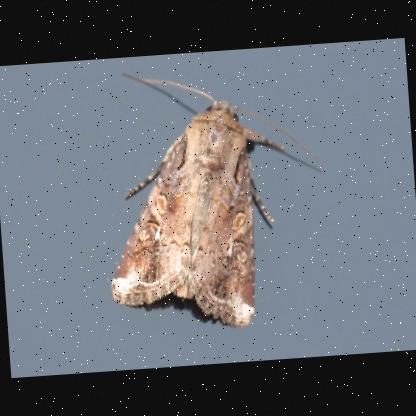Fall Armyworm Moth: (94, 57, 337, 340)
